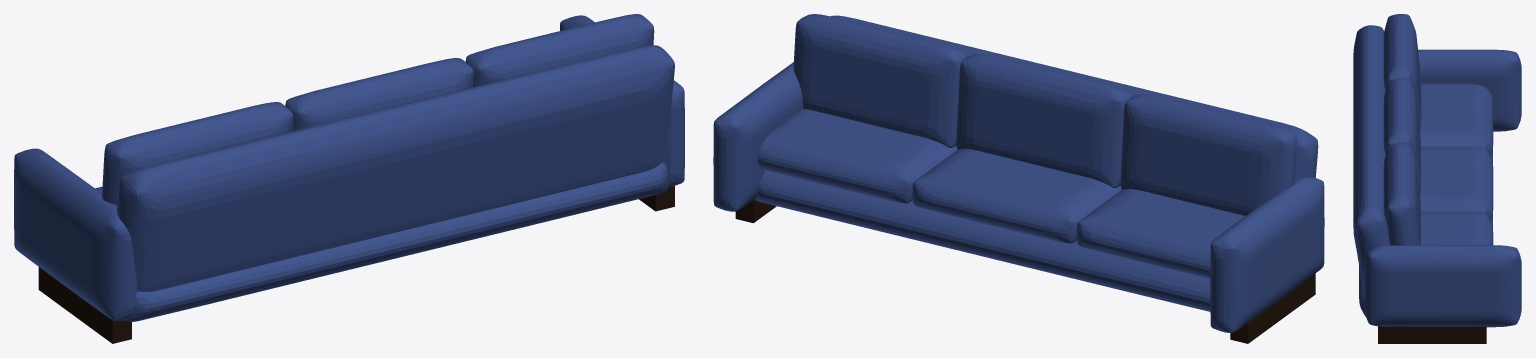
The model's file is sillon.glb.
3 views of the same model, side by side, from view 1: azimuth 30°, elevation 25°; view 2: azimuth 150°, elevation 25°; view 3: azimuth 270°, elevation 25° (orthographic). The views are drawn at different scales.
Visible parts, largest first — view 1: Cube.005, Cube.007; view 2: Cube.005, Cube.007; view 3: Cube.005, Cube.007.
Boxes of the visible parts, x1=… form: Cube.005: x1=14, y1=14, x2=684, y2=321; Cube.007: x1=38, y1=186, x2=674, y2=343; Cube.005: x1=713, y1=14, x2=1324, y2=332; Cube.007: x1=735, y1=199, x2=1315, y2=343; Cube.005: x1=1353, y1=14, x2=1521, y2=327; Cube.007: x1=1378, y1=326, x2=1486, y2=343.
Bounding box in the file's own units: 36.83 × 11.32 × 12.49.
